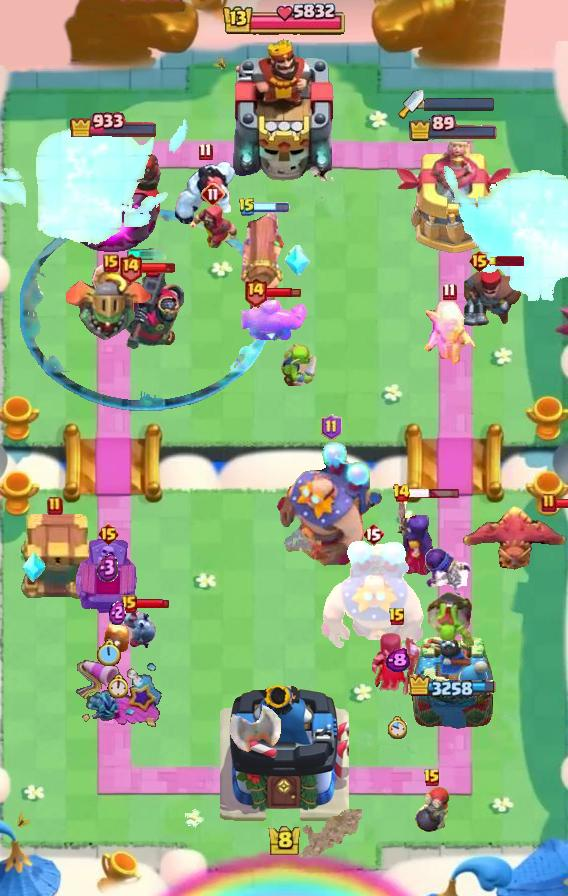axe: (391, 489, 437, 577)
bar: (394, 142, 512, 256)
bar-level: (425, 589, 475, 649)
battle-healer: (239, 203, 287, 317)
bomb: (16, 513, 94, 601)
bomber: (103, 622, 131, 654)
bowler: (187, 202, 239, 252)
clock: (221, 0, 347, 40)
electro-spirit: (97, 554, 119, 583), (385, 647, 410, 672), (109, 599, 126, 625)
elixir: (96, 640, 121, 668), (107, 674, 128, 698), (387, 716, 407, 740)
elixir-golem-mid: (73, 538, 143, 624)
emote: (408, 488, 460, 499), (140, 262, 176, 274), (266, 286, 302, 298), (134, 598, 170, 610), (254, 203, 290, 214), (488, 256, 524, 266), (556, 497, 568, 509)
fisherman: (300, 809, 362, 857)
goblin-ball: (422, 546, 474, 600)
ice-golem: (412, 786, 452, 834)
ice-spirit: (125, 248, 167, 260)
inferno-tower: (102, 269, 190, 351)
king-tower: (219, 678, 349, 826), (228, 35, 340, 181)
king-tower-bar: (424, 97, 496, 111)
little-prince: (277, 441, 385, 567), (318, 539, 428, 655)
mega-knight: (0, 103, 188, 249), (444, 153, 568, 327)
mother-witch: (460, 504, 568, 576)
night-witch: (66, 262, 156, 342)
pad_0: (20, 208, 272, 412)
pad_2: (285, 245, 311, 277), (21, 551, 47, 583)
phoenix-small: (458, 266, 524, 328)
poison: (407, 300, 491, 372)
queen-tower: (411, 627, 495, 731)
rage: (173, 161, 237, 227)
rascal-boy: (369, 631, 425, 701)
royal-delivery: (119, 608, 161, 650)
royal-giant: (229, 686, 283, 754)
selected: (409, 114, 500, 142), (69, 109, 159, 137), (408, 674, 498, 701)
text: (117, 252, 142, 283), (243, 277, 268, 308), (201, 182, 225, 206), (321, 414, 343, 440), (468, 249, 491, 273), (97, 522, 120, 546), (362, 522, 384, 546), (393, 483, 412, 503), (238, 197, 256, 217), (388, 607, 406, 627), (423, 768, 441, 788), (541, 493, 557, 513), (47, 496, 63, 516), (103, 254, 119, 272), (121, 595, 137, 613), (442, 283, 457, 301), (199, 143, 213, 161)
tornado: (234, 296, 308, 348)
tower-bar: (62, 138, 166, 256)
zap: (280, 339, 320, 389)
